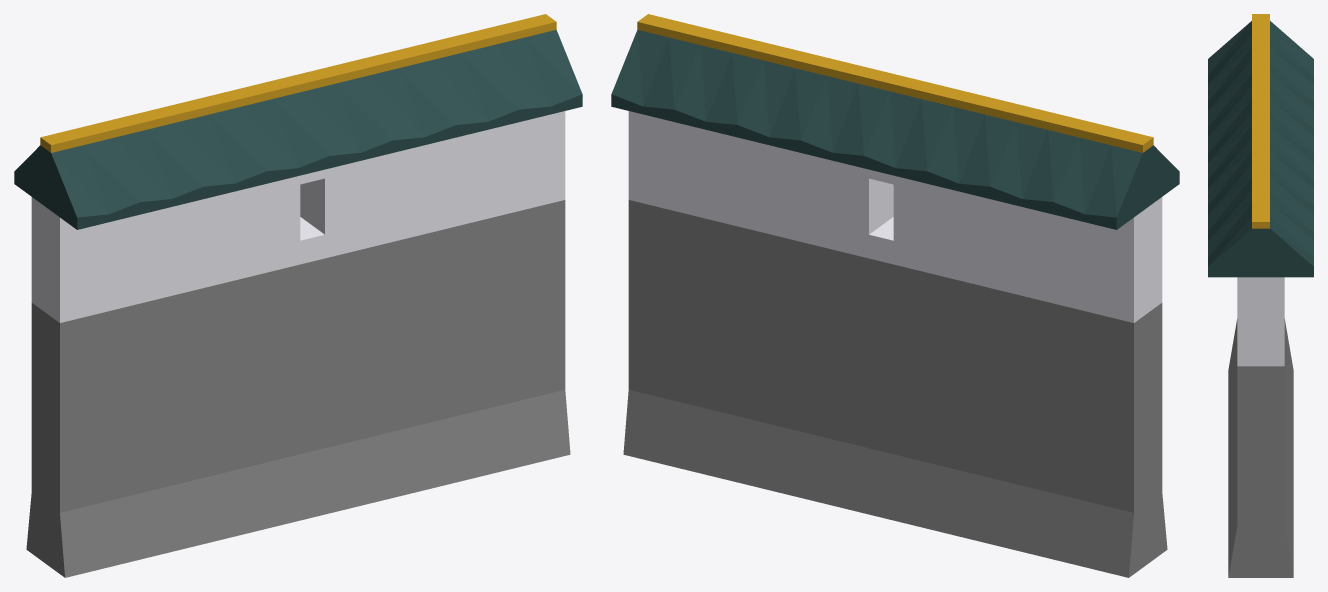
File: Asian_Prop_Building_Fence_Wall_High_Embrasure_04.FBX
The picture shows the model from 3 angles, left to right: view 1: azimuth 30°, elevation 25°; view 2: azimuth 150°, elevation 25°; view 3: azimuth 270°, elevation 25°; orthographic projection. The views are drawn at different scales.
Parts seen in each view (by area): view 1: Asian_Prop_Building_Fence_Wall_High_Embrasure_04; view 2: Asian_Prop_Building_Fence_Wall_High_Embrasure_04; view 3: Asian_Prop_Building_Fence_Wall_High_Embrasure_04.
Boxes of the visible parts, bbox=[...] form: Asian_Prop_Building_Fence_Wall_High_Embrasure_04: bbox=[14, 14, 582, 577]; Asian_Prop_Building_Fence_Wall_High_Embrasure_04: bbox=[611, 14, 1179, 577]; Asian_Prop_Building_Fence_Wall_High_Embrasure_04: bbox=[1208, 14, 1313, 577].
Bounding box in the file's own units: 5167 × 4128 × 1112.
